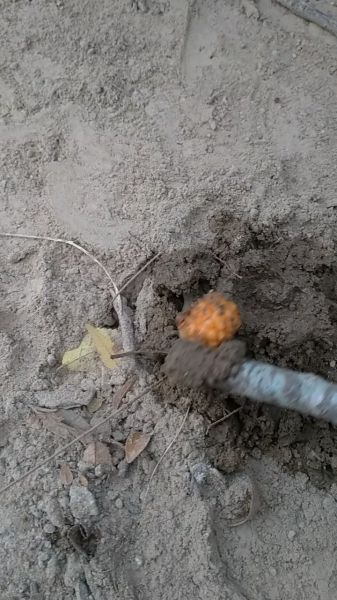eggs: (176, 294, 239, 352)
